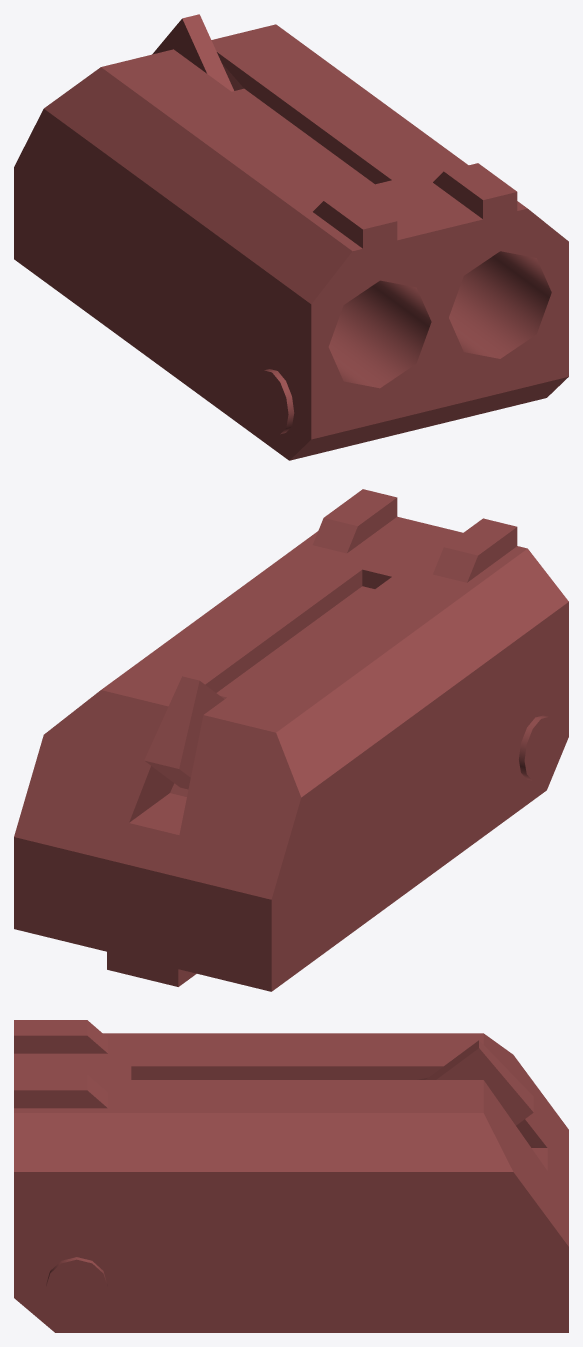
File: WM0_Cannon_x2_LVL0.FBX
The picture shows the model from 3 angles, top to bottom: view 1: azimuth 30°, elevation 25°; view 2: azimuth 150°, elevation 25°; view 3: azimuth 270°, elevation 25°; orthographic projection. The views are drawn at different scales.
Visible parts, largest first — view 1: WM0_Cannon_x2_LVL0; view 2: WM0_Cannon_x2_LVL0; view 3: WM0_Cannon_x2_LVL0.
Boxes of the visible parts, bbox=[...] form: WM0_Cannon_x2_LVL0: bbox=[14, 14, 568, 460]; WM0_Cannon_x2_LVL0: bbox=[14, 489, 568, 991]; WM0_Cannon_x2_LVL0: bbox=[14, 1020, 568, 1332].
Size of the model in its own units: 11.75 by 11.05 by 22.5.
